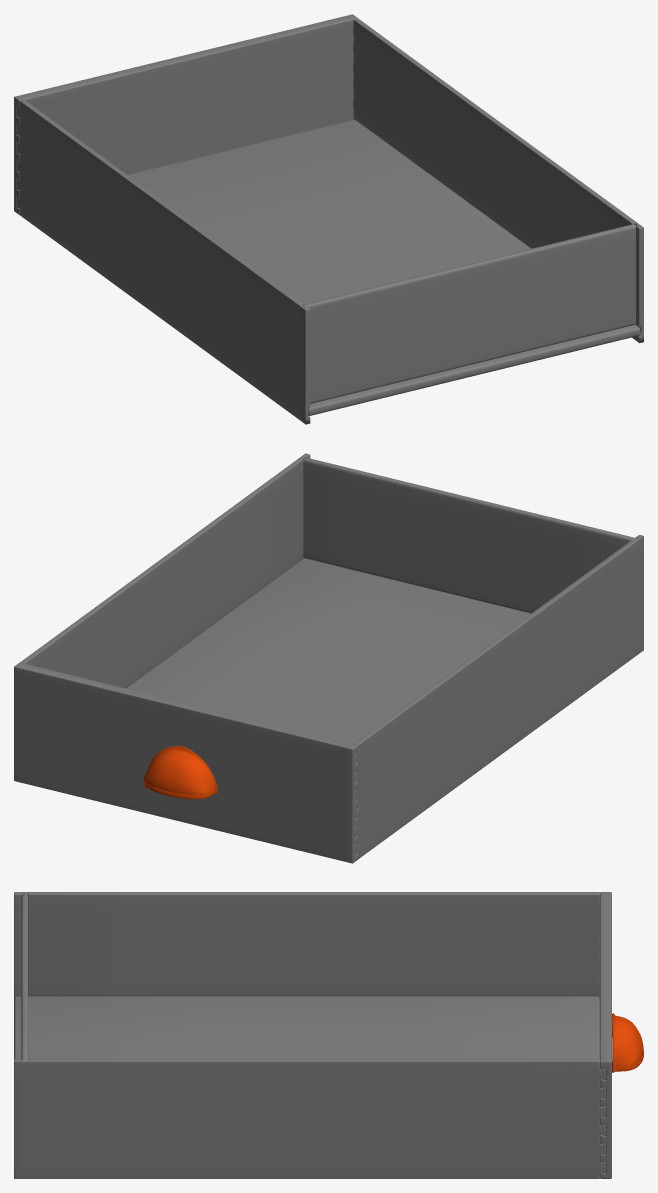
The model's file is Tiler_LeftTopDrawer_High_Collision.fbx.
3 renders of one model, top to bottom at view 1: azimuth 30°, elevation 25°; view 2: azimuth 150°, elevation 25°; view 3: azimuth 270°, elevation 25°, orthographic. The views are drawn at different scales.
Parts seen in each view (by area): view 1: LeftTopDrawer; view 2: LeftTopDrawer; view 3: LeftTopDrawer.
Boxes of the visible parts, x1=… form: LeftTopDrawer: x1=14, y1=14, x2=643, y2=424; LeftTopDrawer: x1=14, y1=453, x2=643, y2=863; LeftTopDrawer: x1=14, y1=892, x2=643, y2=1178.
Size of what is drawn, in the model's own units: 16.69 by 5.4 by 26.19.
